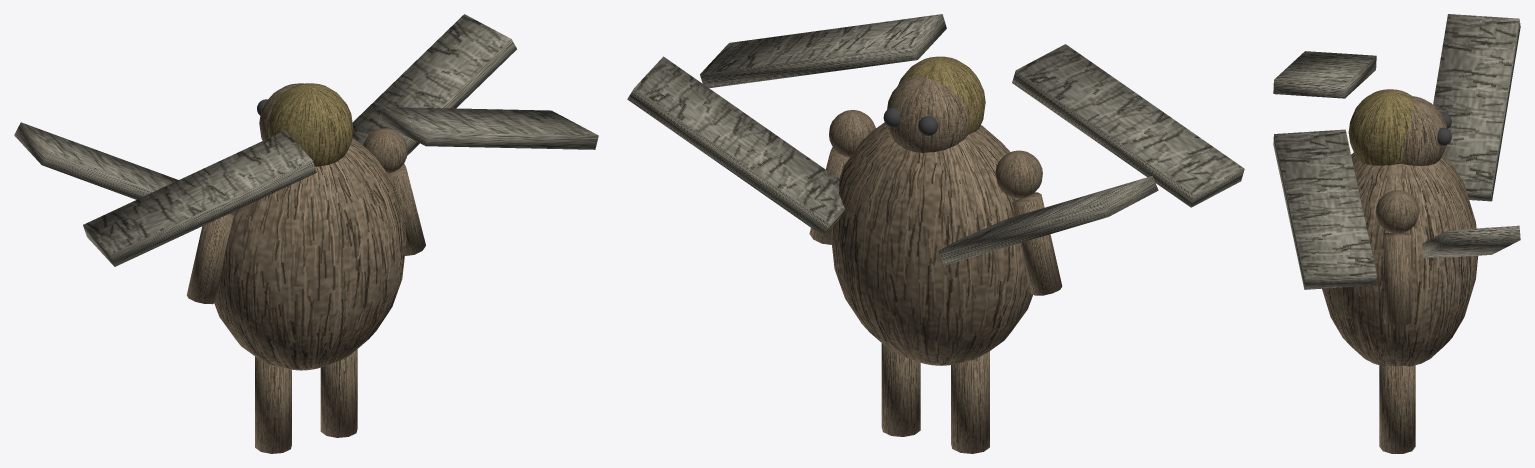
Rendered from pixie.glb.
The picture shows the model from 3 angles, left to right: view 1: azimuth 30°, elevation 25°; view 2: azimuth 150°, elevation 25°; view 3: azimuth 270°, elevation 25°; orthographic projection. The views are drawn at different scales.
Visible parts, largest first — view 1: Torso, DragonflyWing.001, DragonflyWing.002, DragonflyWing.003, HairStrands, DragonflyWing, Leg, Leg.001, Arm, Arm.001, ShoulderJoint.001; view 2: Torso, DragonflyWing.001, DragonflyWing.002, DragonflyWing.003, DragonflyWing, Head, Leg, Leg.001, HairStrands, Arm, ShoulderJoint, ShoulderJoint.001 (+1 smaller); view 3: Torso, DragonflyWing.003, DragonflyWing, HairStrands, DragonflyWing.001, Leg.001, Arm.001, DragonflyWing.002, Head, ShoulderJoint.001.
Boxes of the visible parts, x1=… form: Torso: x1=214, y1=138, x2=406, y2=370; DragonflyWing.001: x1=83, y1=130, x2=316, y2=266; DragonflyWing.002: x1=352, y1=14, x2=516, y2=155; DragonflyWing.003: x1=378, y1=107, x2=598, y2=149; HairStrands: x1=267, y1=83, x2=353, y2=166; DragonflyWing: x1=14, y1=122, x2=178, y2=199; Leg: x1=255, y1=356, x2=291, y2=453; Leg.001: x1=320, y1=349, x2=357, y2=437; Arm: x1=186, y1=213, x2=233, y2=304; Arm.001: x1=388, y1=163, x2=425, y2=255; ShoulderJoint.001: x1=363, y1=128, x2=407, y2=173; Torso: x1=830, y1=122, x2=1032, y2=365; DragonflyWing.001: x1=1012, y1=44, x2=1244, y2=207; DragonflyWing.002: x1=627, y1=56, x2=844, y2=235; DragonflyWing.003: x1=700, y1=14, x2=946, y2=88; DragonflyWing: x1=938, y1=176, x2=1158, y2=265; Head: x1=887, y1=76, x2=969, y2=152; Leg: x1=951, y1=351, x2=989, y2=453; Leg.001: x1=881, y1=343, x2=920, y2=436; HairStrands: x1=898, y1=56, x2=985, y2=134; Arm: x1=1012, y1=192, x2=1062, y2=295; ShoulderJoint: x1=995, y1=150, x2=1042, y2=198; ShoulderJoint.001: x1=829, y1=110, x2=875, y2=157; Torso: x1=1322, y1=152, x2=1478, y2=366; DragonflyWing.003: x1=1273, y1=129, x2=1376, y2=289; DragonflyWing: x1=1433, y1=14, x2=1520, y2=201; HairStrands: x1=1348, y1=89, x2=1413, y2=165; DragonflyWing.001: x1=1273, y1=51, x2=1376, y2=98; Leg.001: x1=1379, y1=365, x2=1415, y2=453; Arm.001: x1=1383, y1=233, x2=1411, y2=325; DragonflyWing.002: x1=1422, y1=225, x2=1520, y2=257; Head: x1=1401, y1=96, x2=1447, y2=165; ShoulderJoint.001: x1=1376, y1=190, x2=1419, y2=233.
Size of the model in its own units: 0.4465 by 0.3092 by 0.2047.
Materials: 4 (3 with a texture image).
